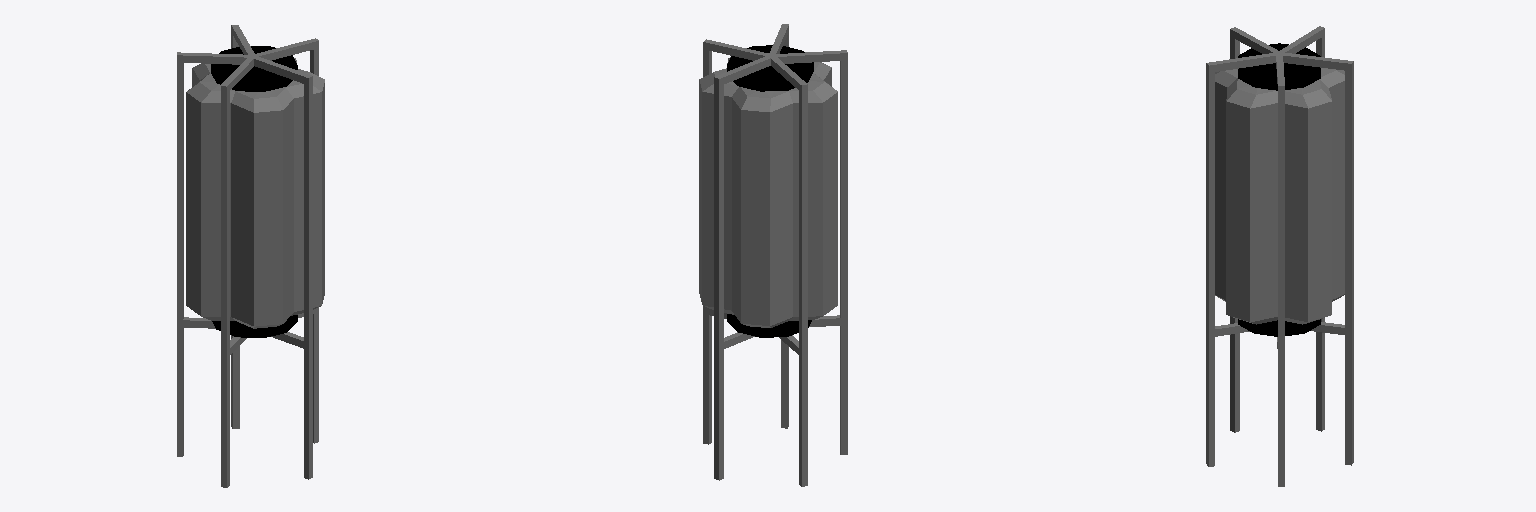
Rendered from LampRemodel_SubstancePaint.obj.
3 views of the same model, side by side, from view 1: azimuth 30°, elevation 25°; view 2: azimuth 150°, elevation 25°; view 3: azimuth 270°, elevation 25° (orthographic).
Visible parts, largest first — view 1: pCylinder7; view 2: pCylinder7; view 3: pCylinder7.
Part boxes in pixels (left/top/right/bottom): pCylinder7: left=177, top=25, right=324, bottom=487; pCylinder7: left=699, top=24, right=847, bottom=486; pCylinder7: left=1206, top=26, right=1353, bottom=486.
Bounding box in the file's own units: 2.02 × 6.21 × 2.06.